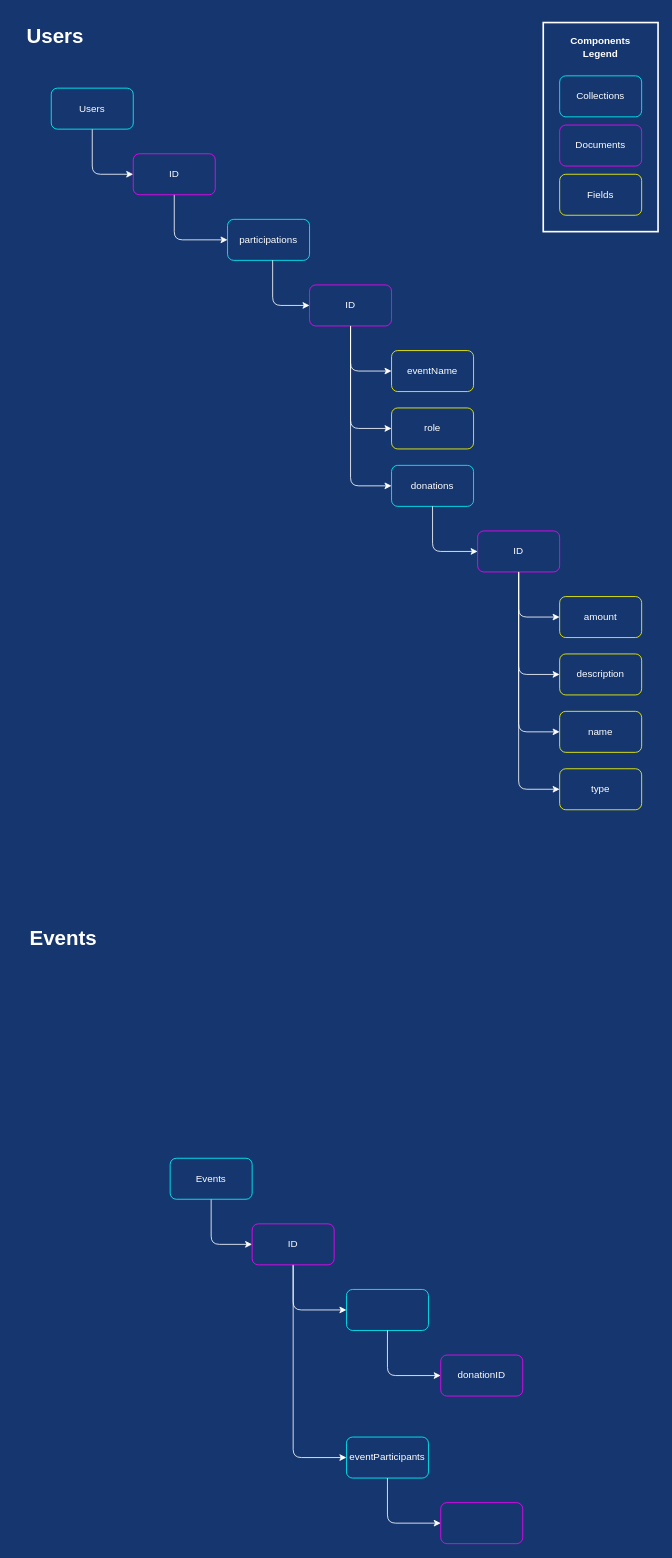
Some shapes in this 672 by 1558 pixel diagram are drawn without their labels. Here are the shapes that lost their labels. From the top down, the box of each, then its label:
(346, 1289, 428, 1330): eventDonations
(440, 1502, 523, 1544): participantID
